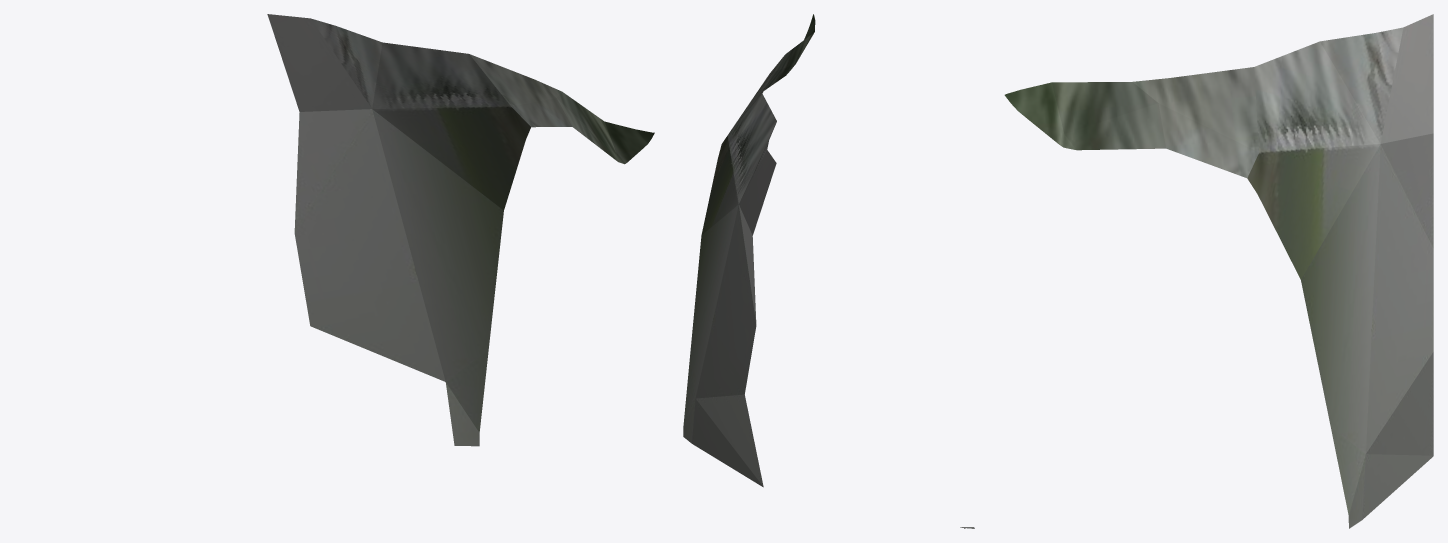
3 views of the same model, side by side, from view 1: azimuth 30°, elevation 25°; view 2: azimuth 150°, elevation 25°; view 3: azimuth 270°, elevation 25° (orthographic). The views are drawn at different scales.
Bounding box in the file's own units: 2.95 × 2.95 × 2.64.
2 materials, 2 textured.
